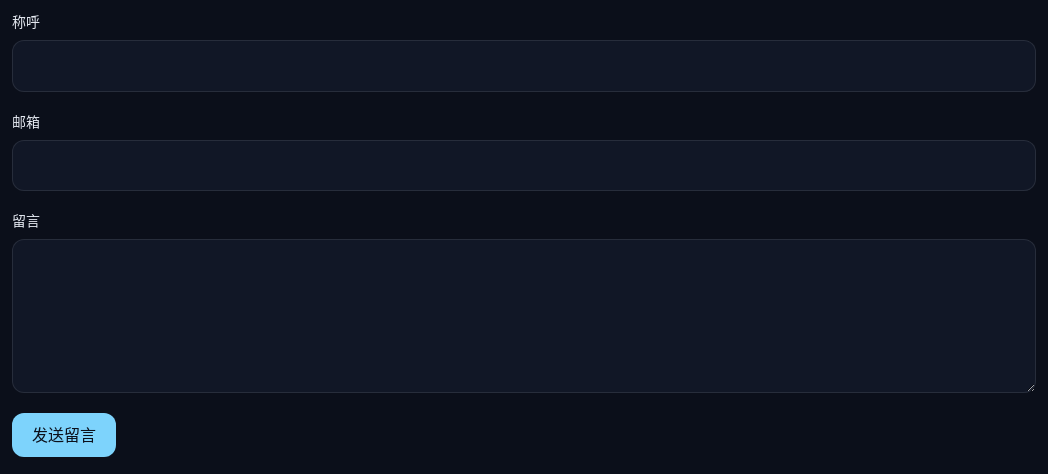
Test: ContactForm › 限流时展示服务端返回的提示
The image size is (1048, 474).
Type "张三" into the field labelled "称呼" at (524, 66), box [12,40,1036,92]
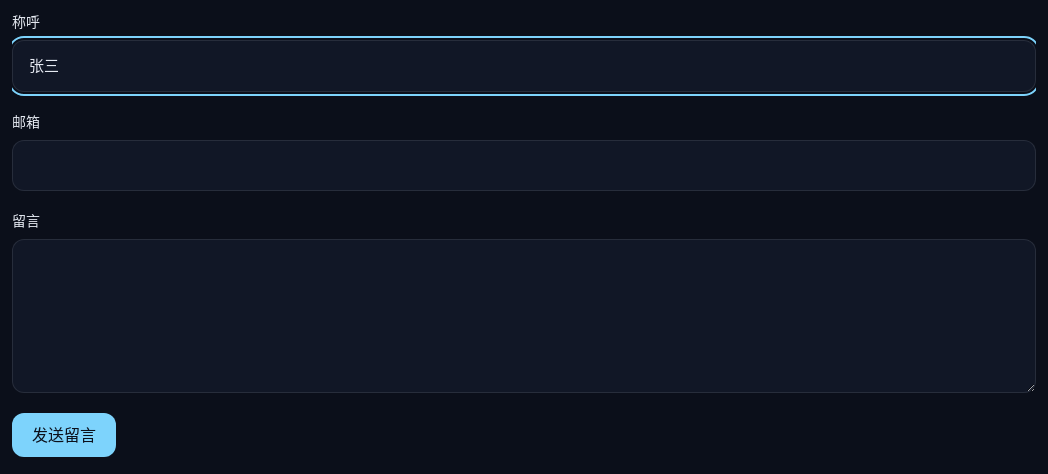
Type "zhangsan@example.com" into the field labelled "邮箱" at (524, 165), box [12,140,1036,191]
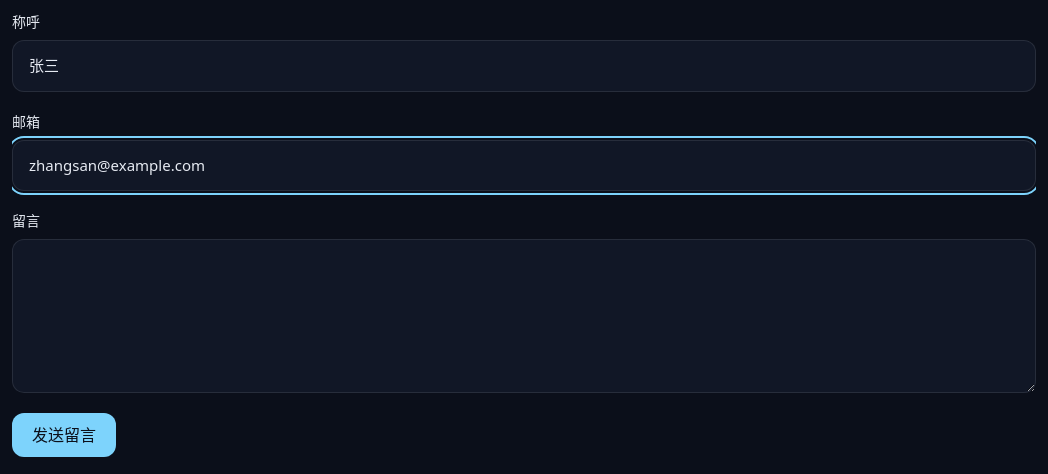
Type "这是一条长度足够的测试留言内容。" into the text box labelled "留言" at (524, 316), box [12,239,1036,392]
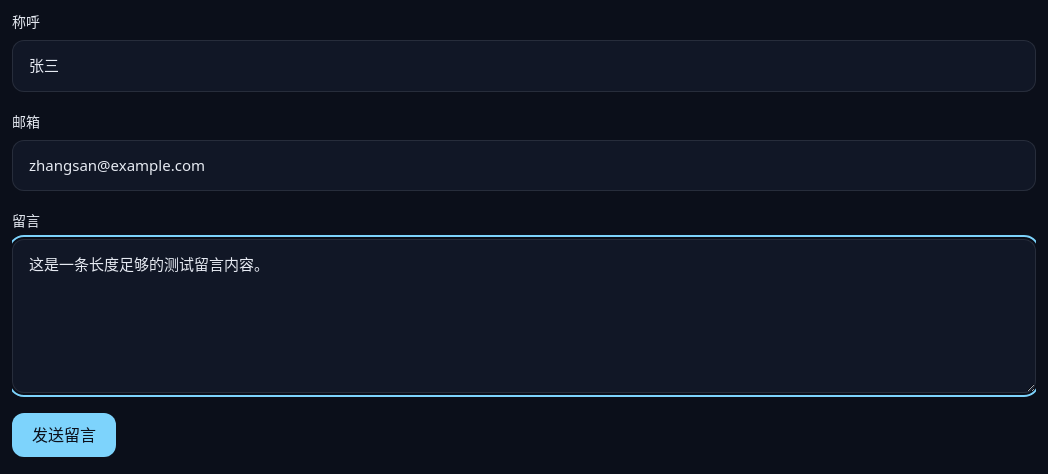
Click the button "发送留言" at (64, 434), box [12,412,116,456]
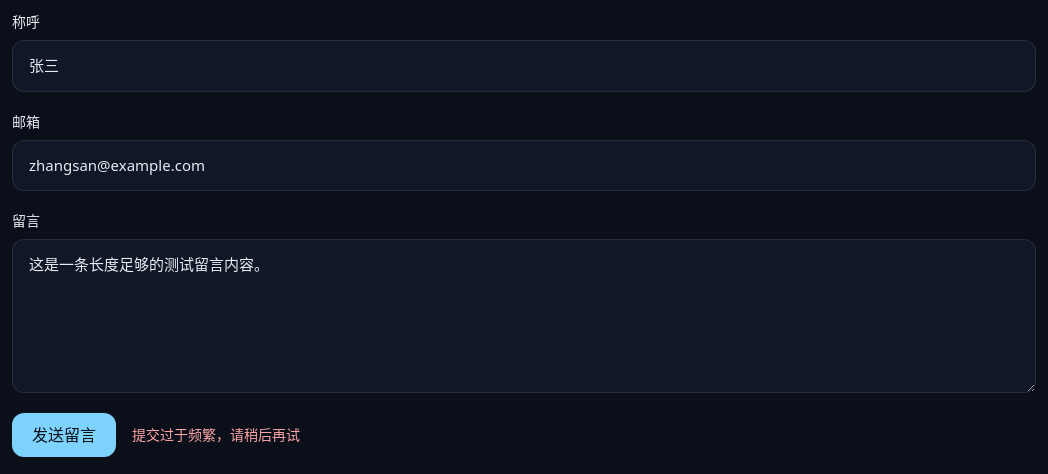
Check: the message reads "提交过于频繁，请稍后再试", box [132,424,300,444]
